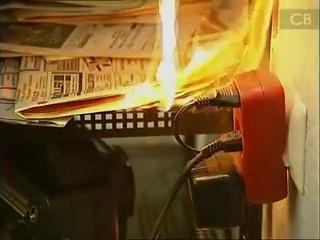Fire: (151, 1, 245, 111)
